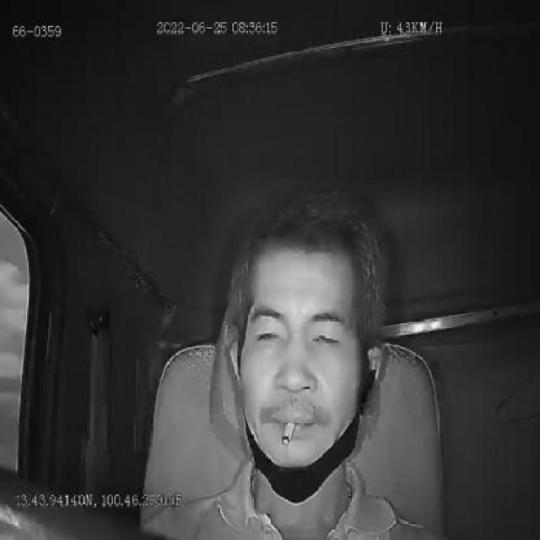smoking: (281, 421, 294, 446)
